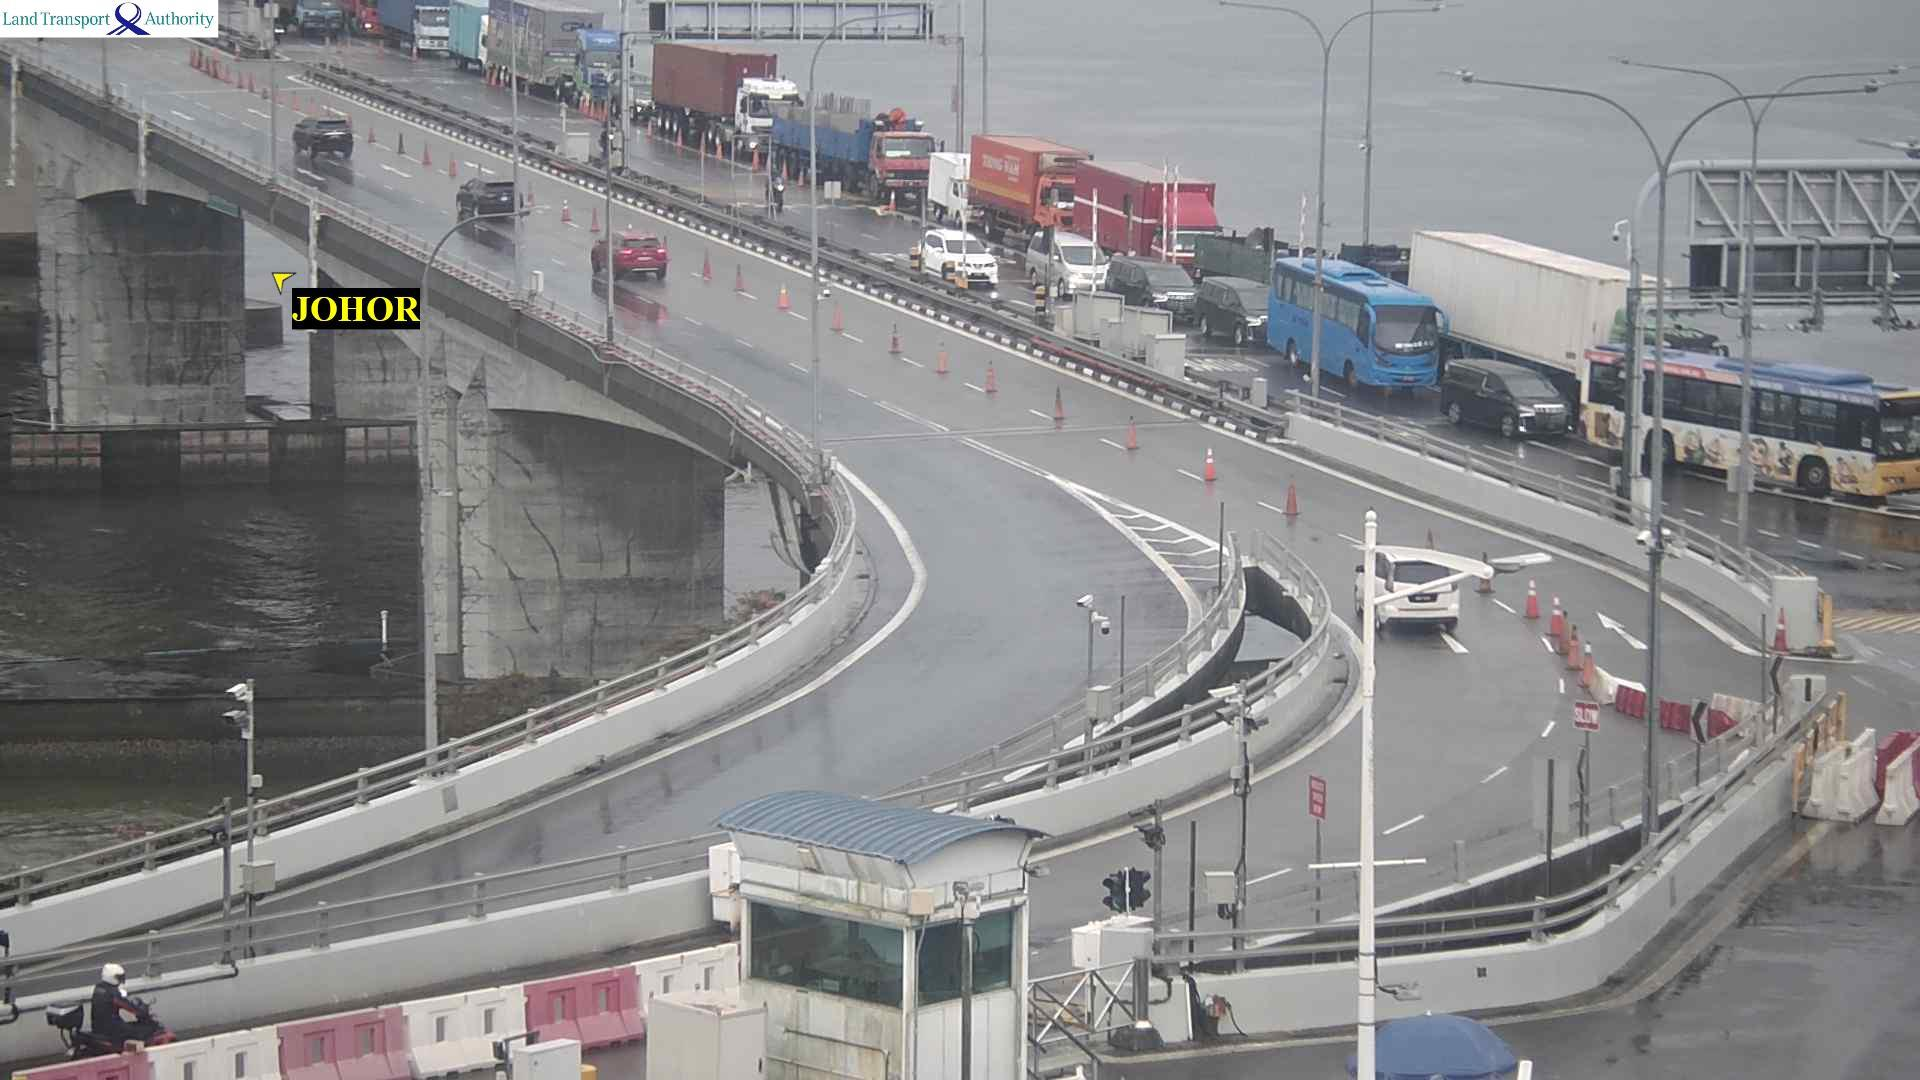vehicle-secondlink-johor: (1357, 543, 1467, 633), (51, 984, 176, 1060), (292, 112, 359, 187), (597, 233, 669, 277), (460, 176, 527, 217)
vehicle-secondlink-singapore: (1412, 232, 1734, 402), (1609, 363, 1920, 494), (685, 45, 950, 198), (1196, 259, 1450, 405), (985, 153, 1232, 269), (1701, 208, 1920, 333), (653, 45, 801, 156), (479, 0, 630, 105), (773, 107, 945, 196), (1438, 361, 1571, 436), (279, 0, 468, 43), (362, 0, 457, 57), (979, 131, 1097, 176), (914, 231, 1004, 279), (1109, 260, 1201, 305), (1026, 232, 1117, 268), (1874, 281, 1920, 330)
